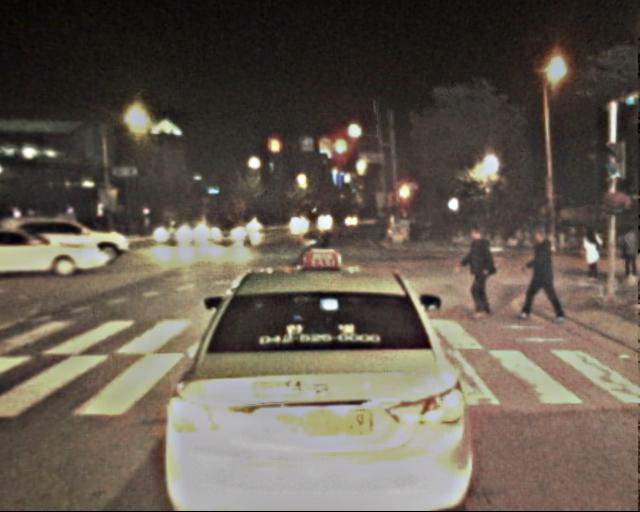person: (519, 229, 561, 332), (293, 228, 334, 329), (461, 225, 502, 326), (578, 224, 604, 288), (614, 223, 639, 283)
